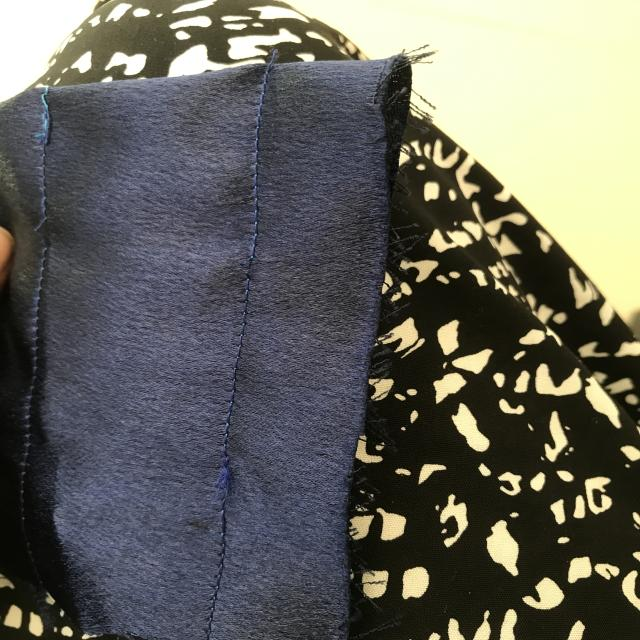broken: (32, 207, 67, 252)
